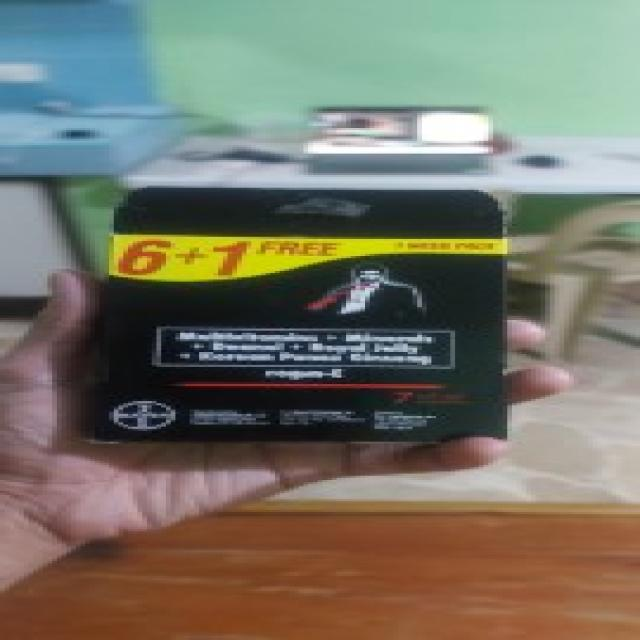Cacat: (74, 188, 508, 443)
